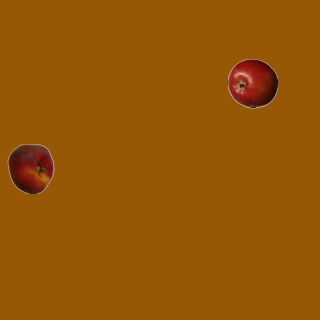Apple Braeburn: (227, 58, 277, 108)
Nectarine Flat: (5, 143, 55, 193)
